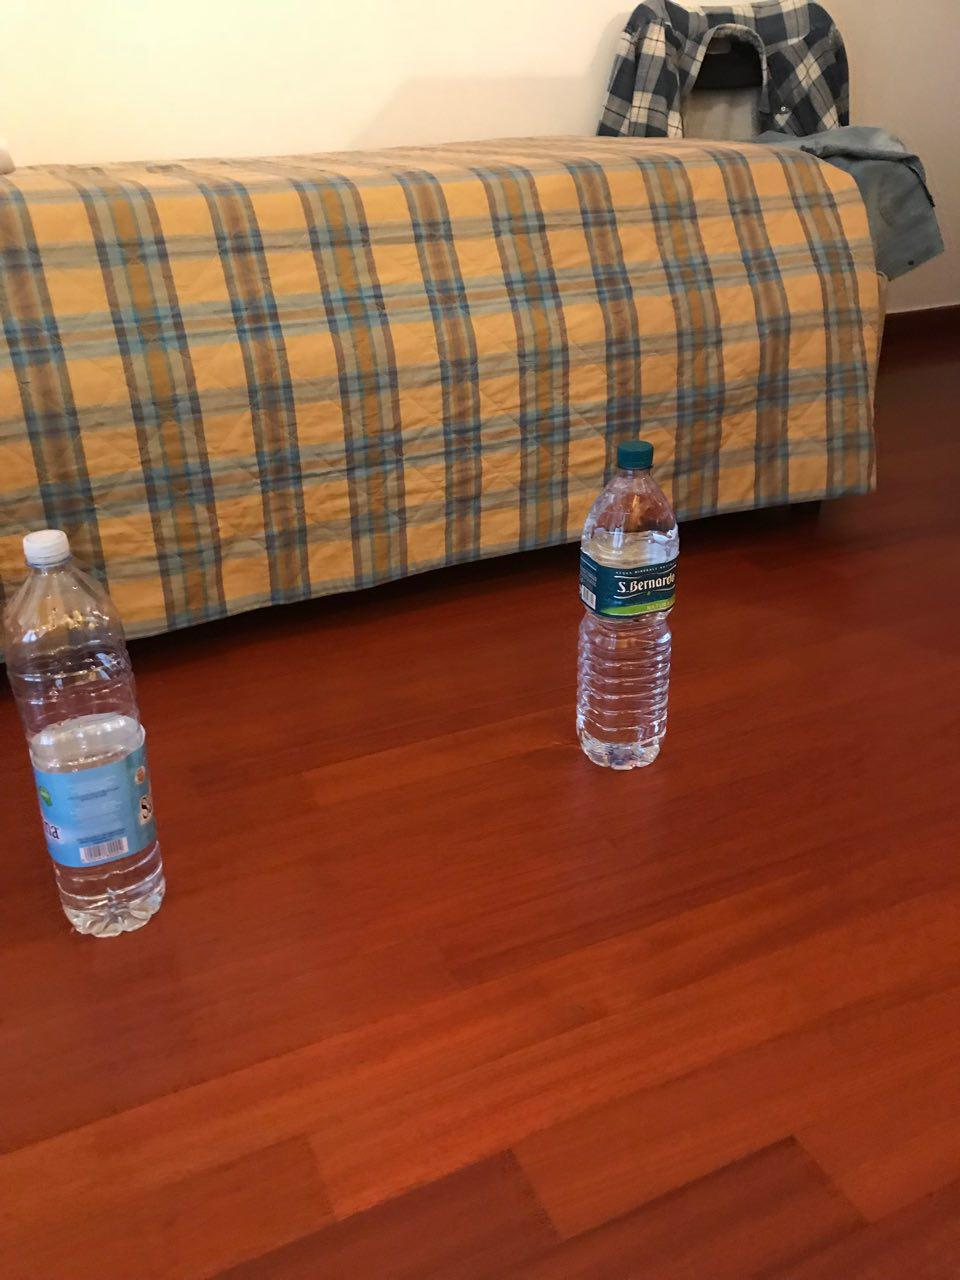san_bernardo: (575, 439, 680, 772)
